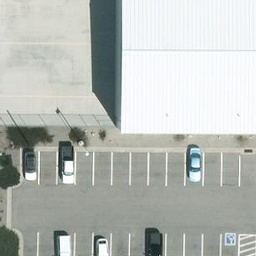car: (61, 146, 76, 183), (187, 147, 202, 182), (22, 148, 38, 180), (144, 230, 164, 254), (57, 236, 70, 256), (96, 237, 109, 256)
